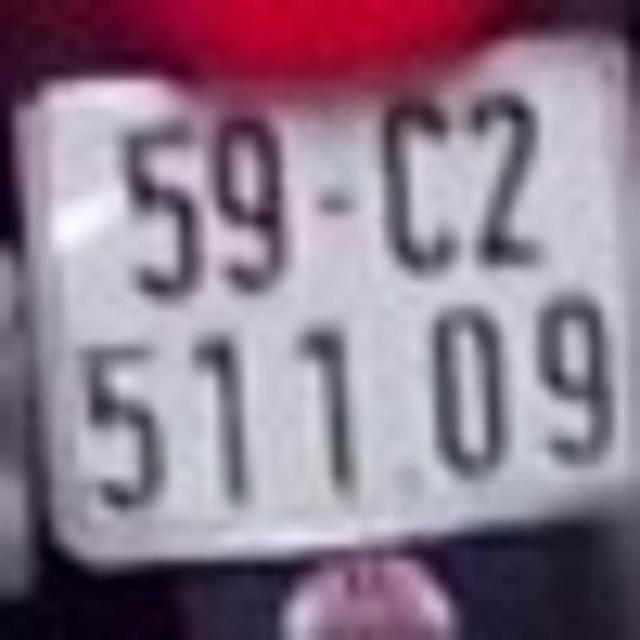0: (426, 294, 514, 492)
1: (278, 314, 360, 504), (183, 328, 259, 511)
2: (470, 83, 550, 272)
5: (112, 113, 210, 297), (72, 336, 170, 516)
9: (529, 289, 619, 474), (214, 111, 293, 296)
C: (378, 85, 467, 278)
